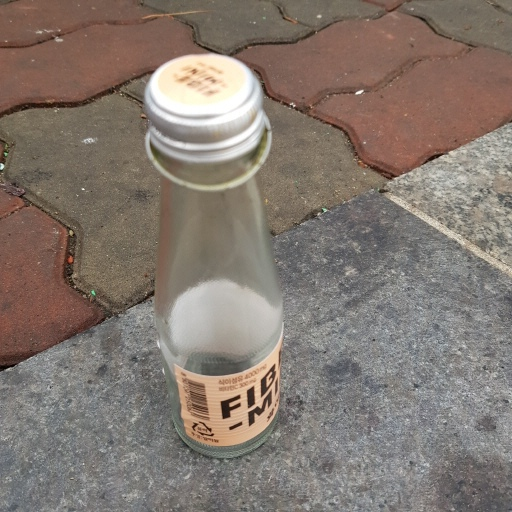Glass_4: (141, 54, 284, 462)
